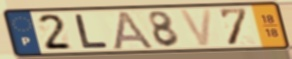2: (36, 13, 72, 51)
7: (219, 7, 251, 47)
8: (148, 9, 182, 48)
A: (110, 9, 156, 51)
L: (73, 13, 111, 50)
V: (177, 8, 214, 48)
